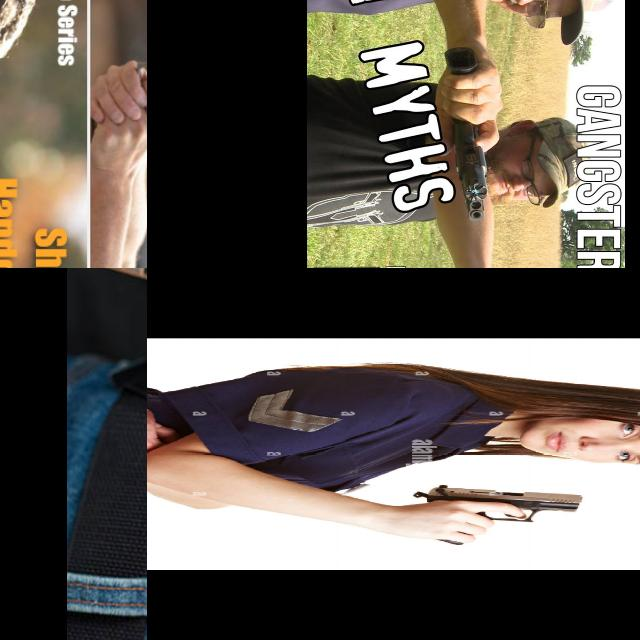handgun: (410, 482, 588, 548), (440, 44, 490, 226), (126, 0, 147, 160)
